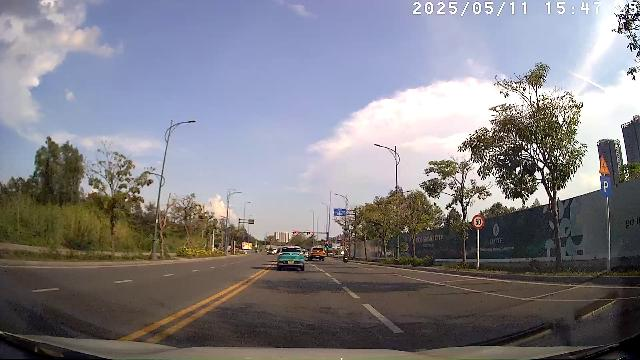127-toc-do-toi-da-50: (472, 214, 484, 230)
